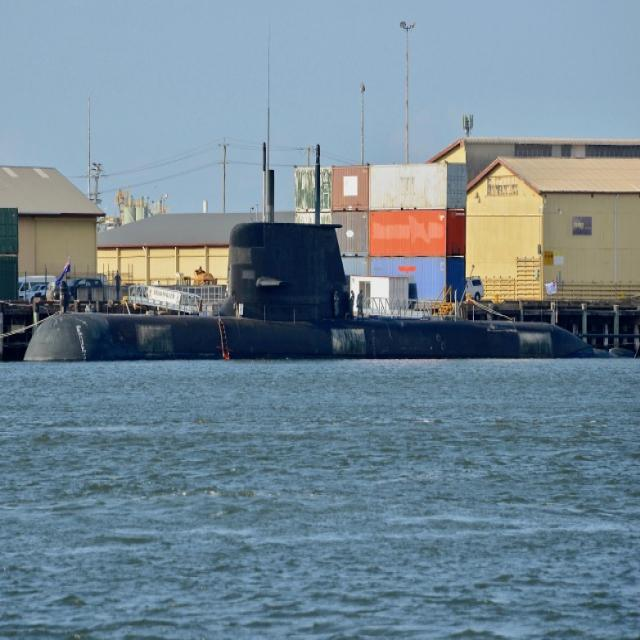submarine: (31, 141, 613, 356)
